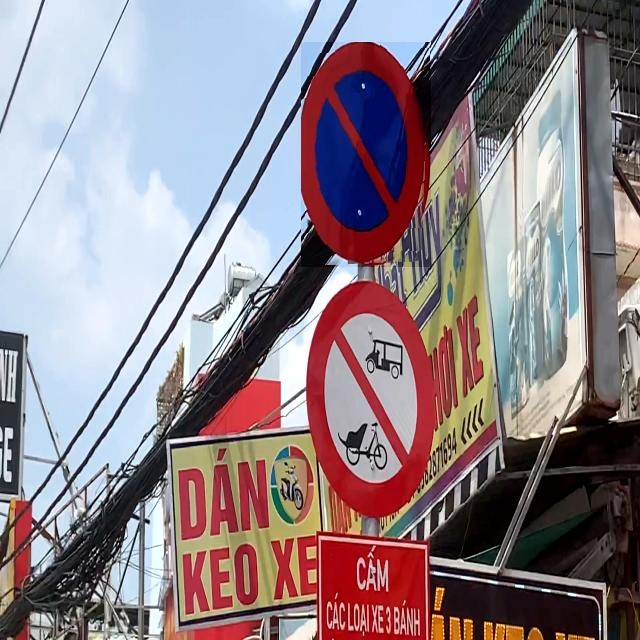bien_cam: (301, 42, 431, 267)
